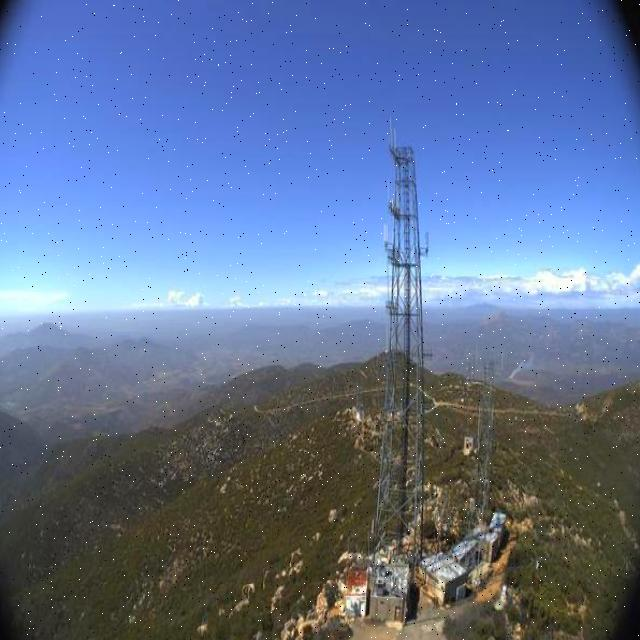smoke: (504, 345, 562, 381)
